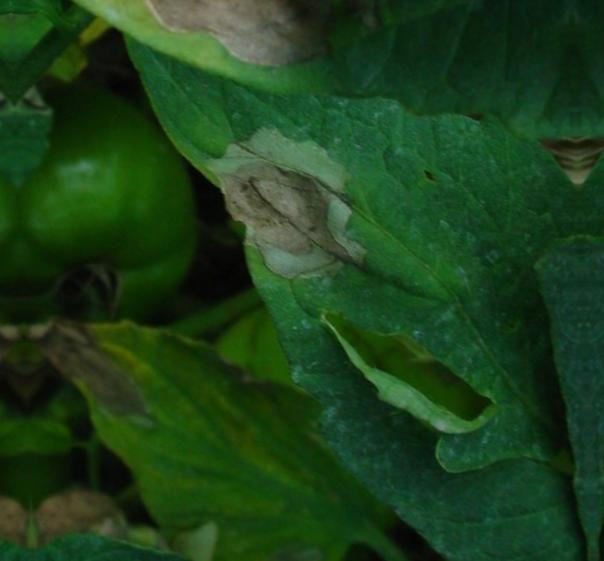Tomato leaf late blight: (167, 43, 585, 561)
